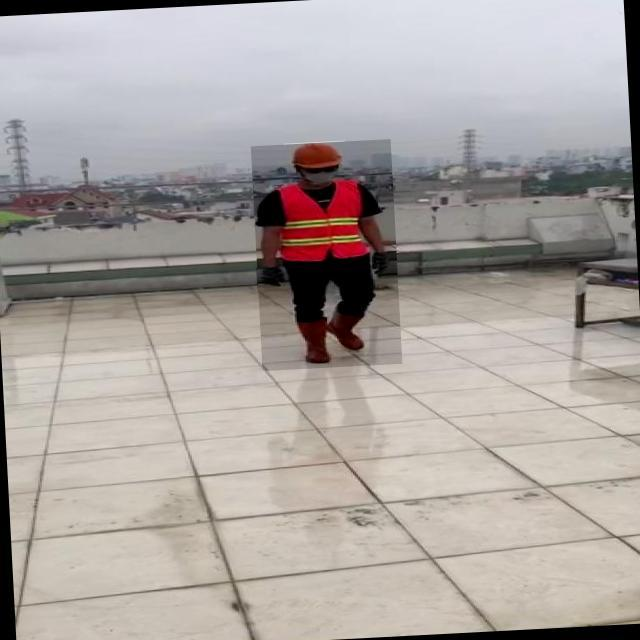Gloves: (257, 267, 288, 292), (365, 254, 391, 282)
Helmet: (284, 141, 347, 175)
Human: (251, 140, 403, 373)
Safety Boot: (291, 321, 331, 368), (327, 310, 368, 355)
Safety Vest: (277, 182, 373, 264)
